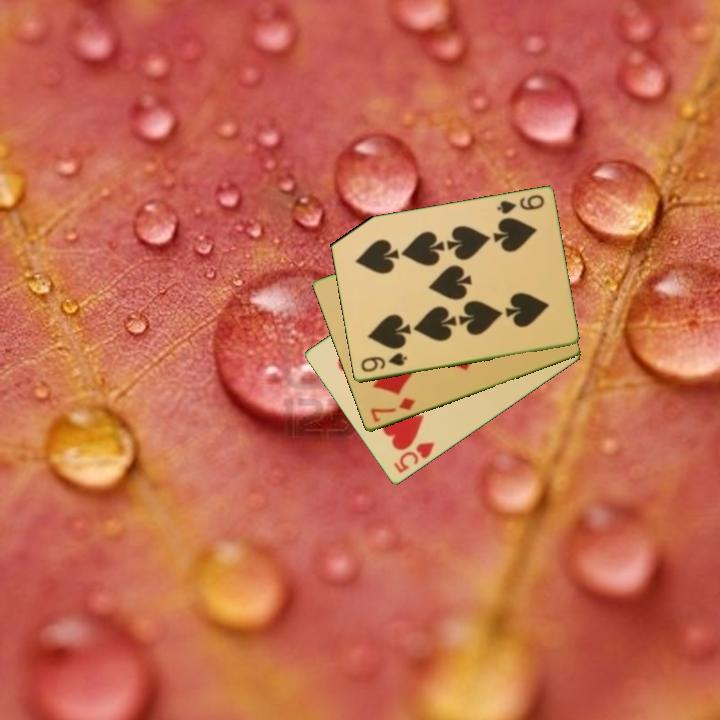5h: (390, 439, 437, 476)
7d: (367, 394, 418, 426)
9s: (493, 191, 547, 217), (357, 350, 410, 375)
